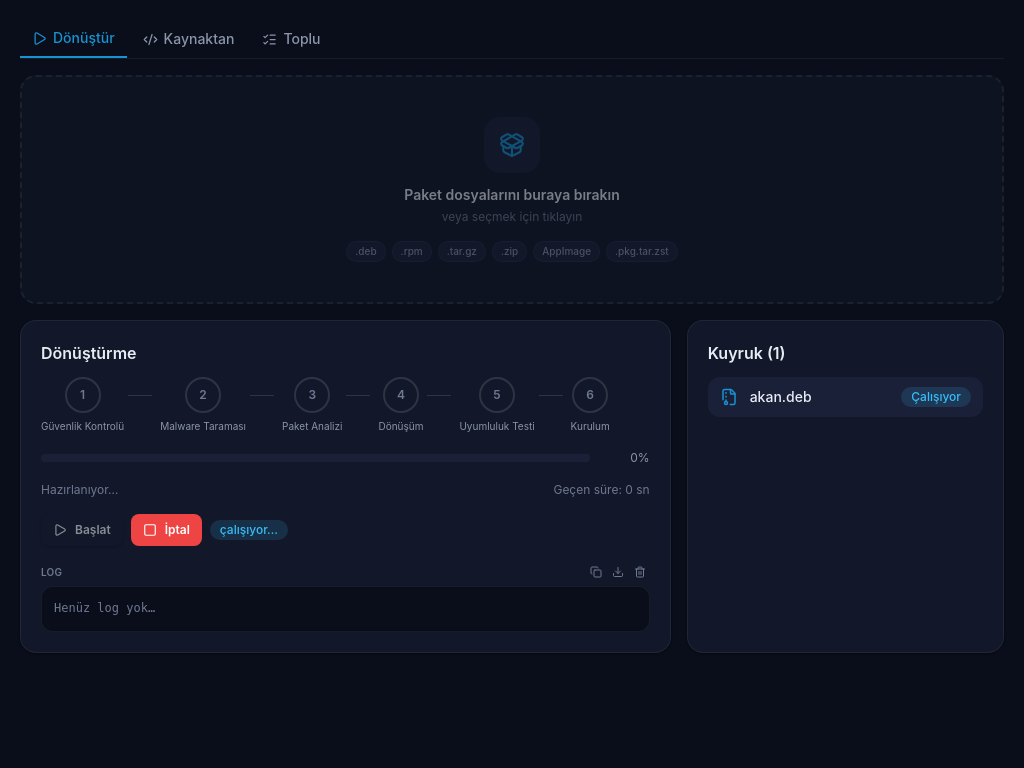
Scenario: Convert page › opens the cancel confirm dialog and backs out without cancelling
Expected: the text "çalışıyor…" is shown, [210,520,288,540]
Step 1. Click the button "İptal" → (166, 530), box [131,514,202,546]
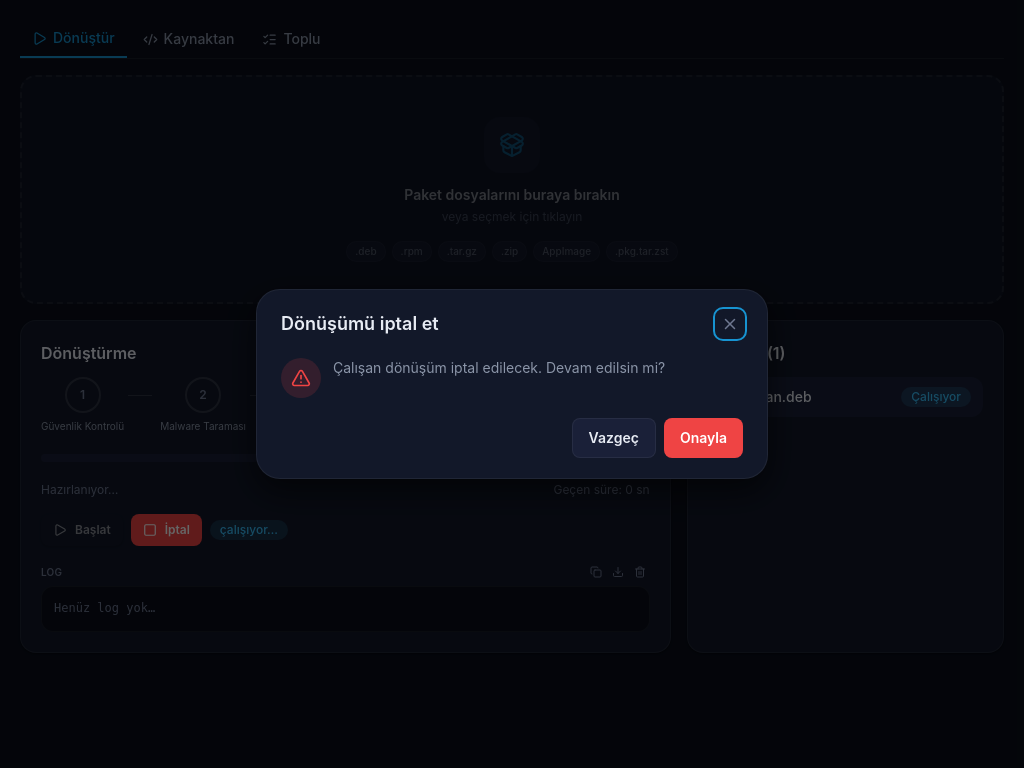
Expected: the heading "Dönüşümü iptal et" is shown, [281,310,439,338]
Expected: the text "Çalışan dönüşüm iptal edilecek. Devam edilsin mi?" is shown, [333,358,665,378]
Step 2. Click the button "Vazgeç" → (614, 438), box [572,418,656,458]
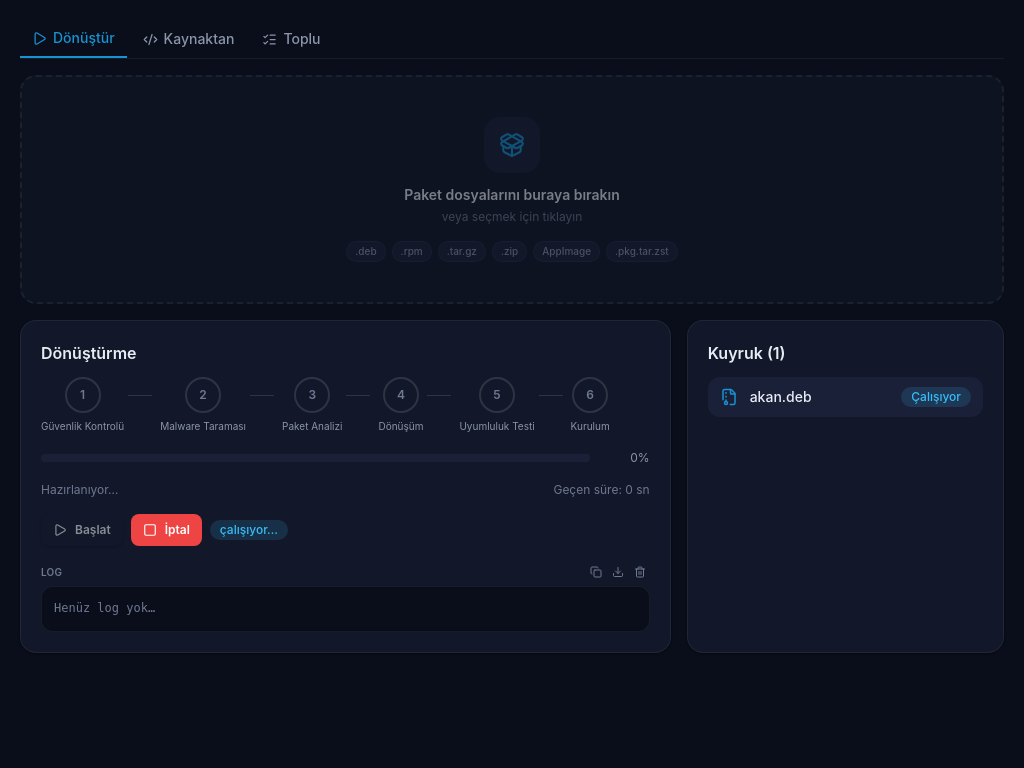
Expected: the heading "Dönüşümü iptal et" is gone
